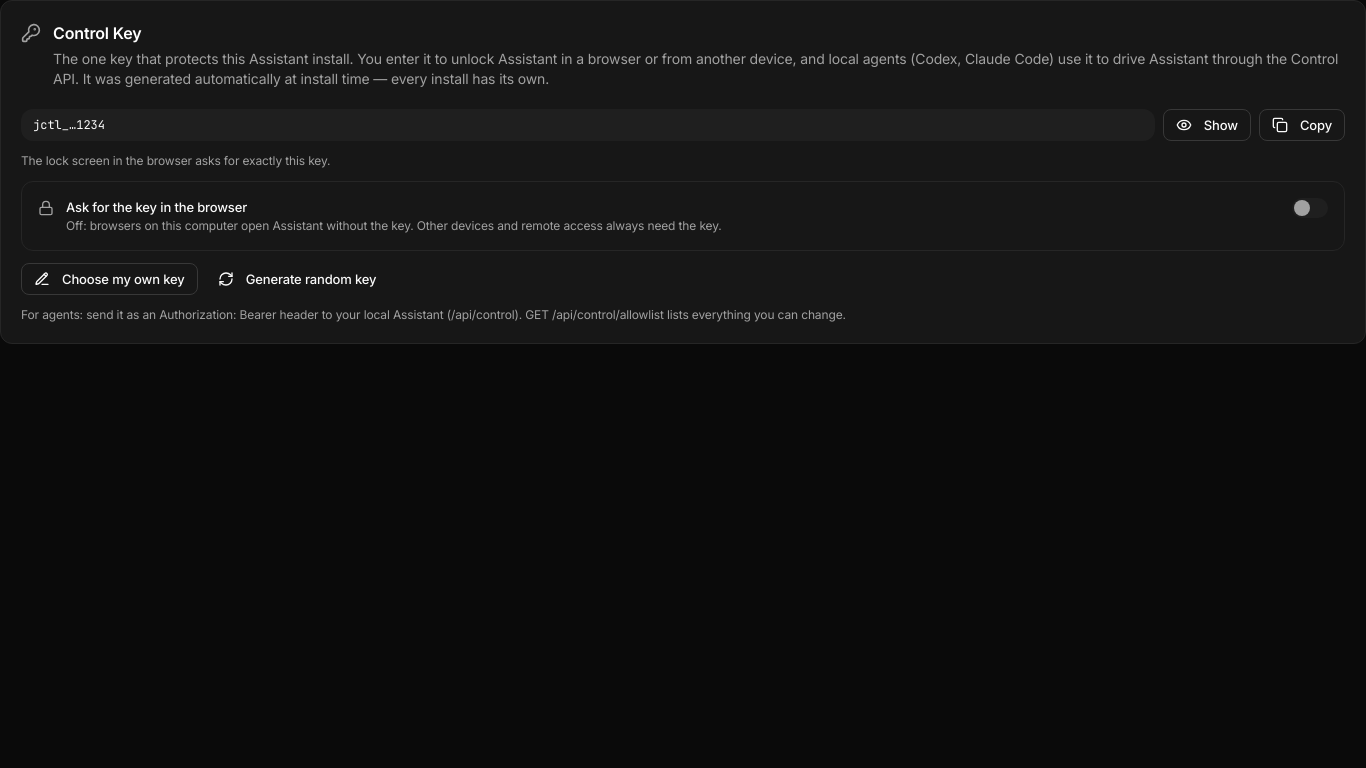
Test case: DodaiosApiGroup › rejects a too-short custom key locally without any request
Expected: the text "jctl_…1234" is shown, [21, 109, 1155, 141]
Click the button "Choose my own key": (109, 279) [21, 263, 198, 295]
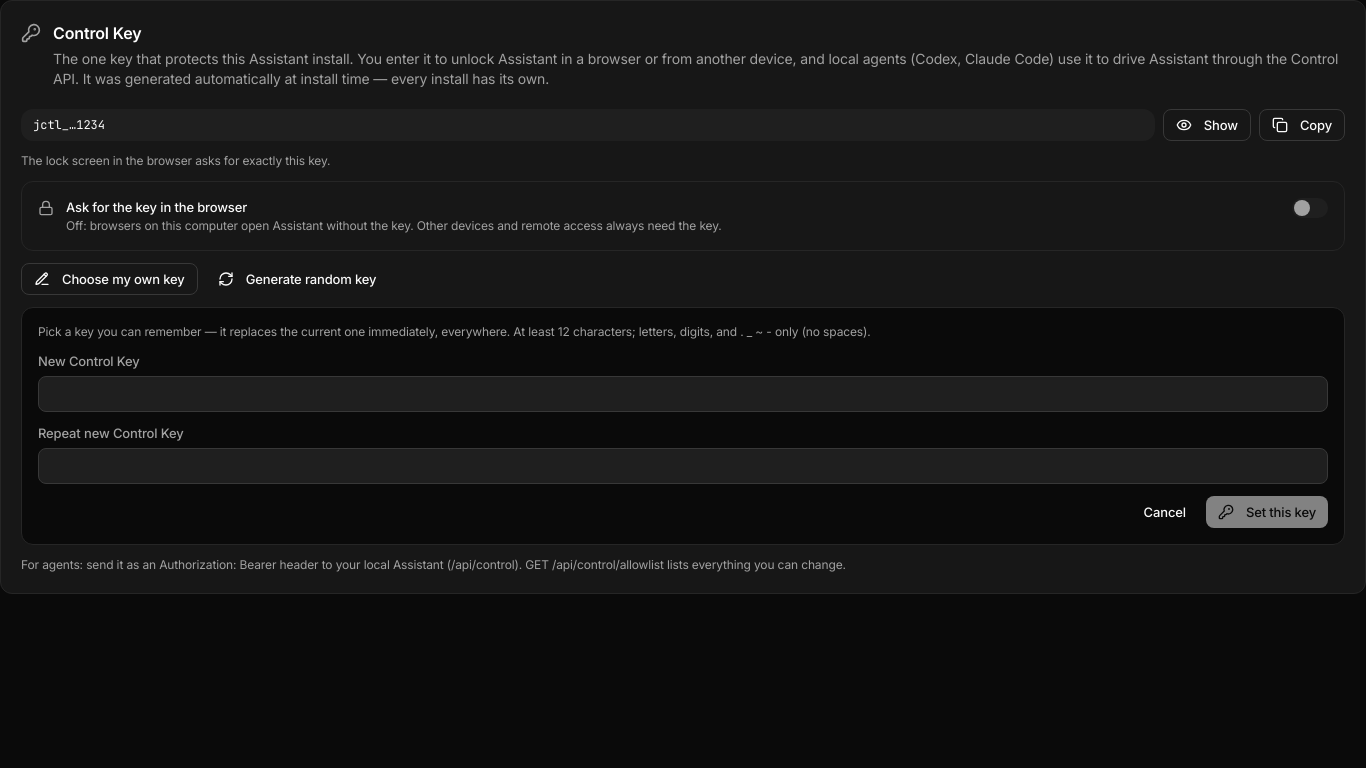
In the password field labelled "New Control Key": (683, 394) [38, 376, 1328, 412], type "short"
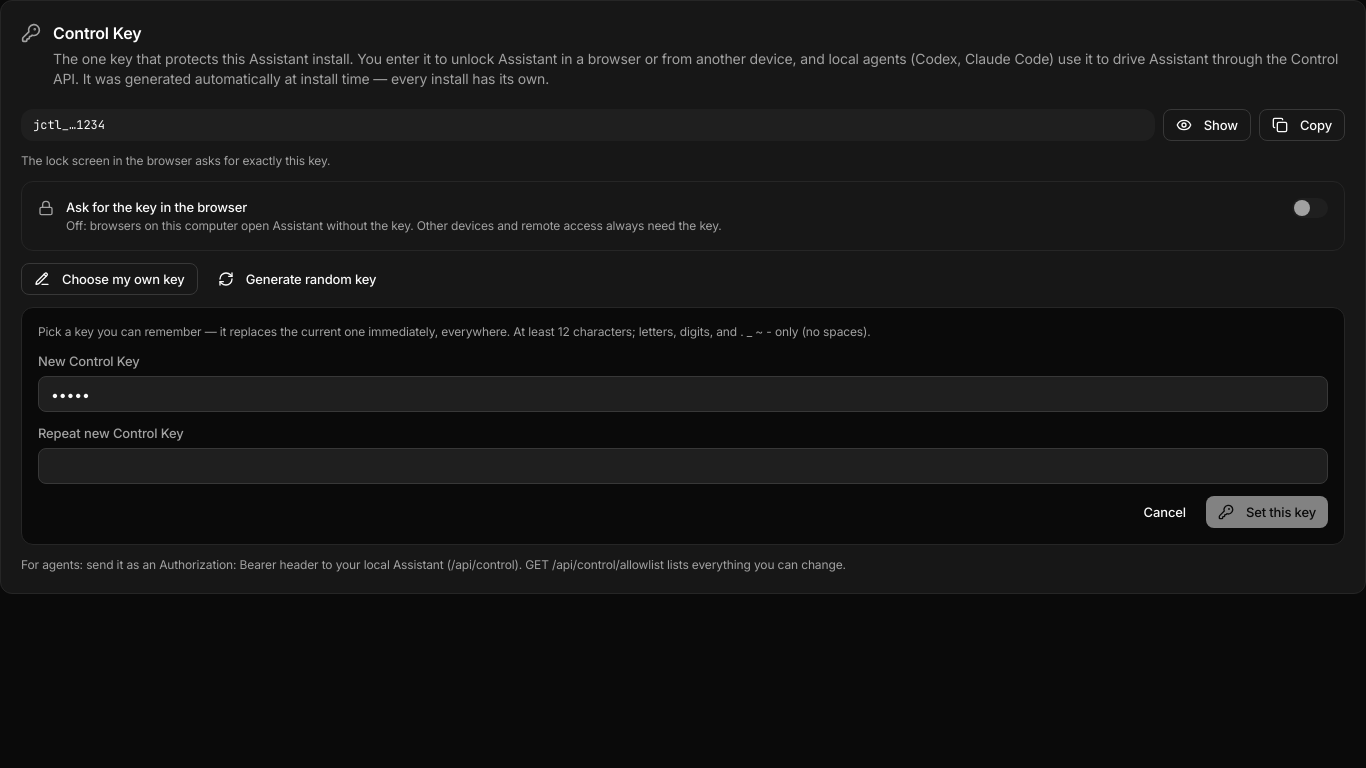
In the password field labelled "Repeat new Control Key": (683, 466) [38, 448, 1328, 484], type "short"
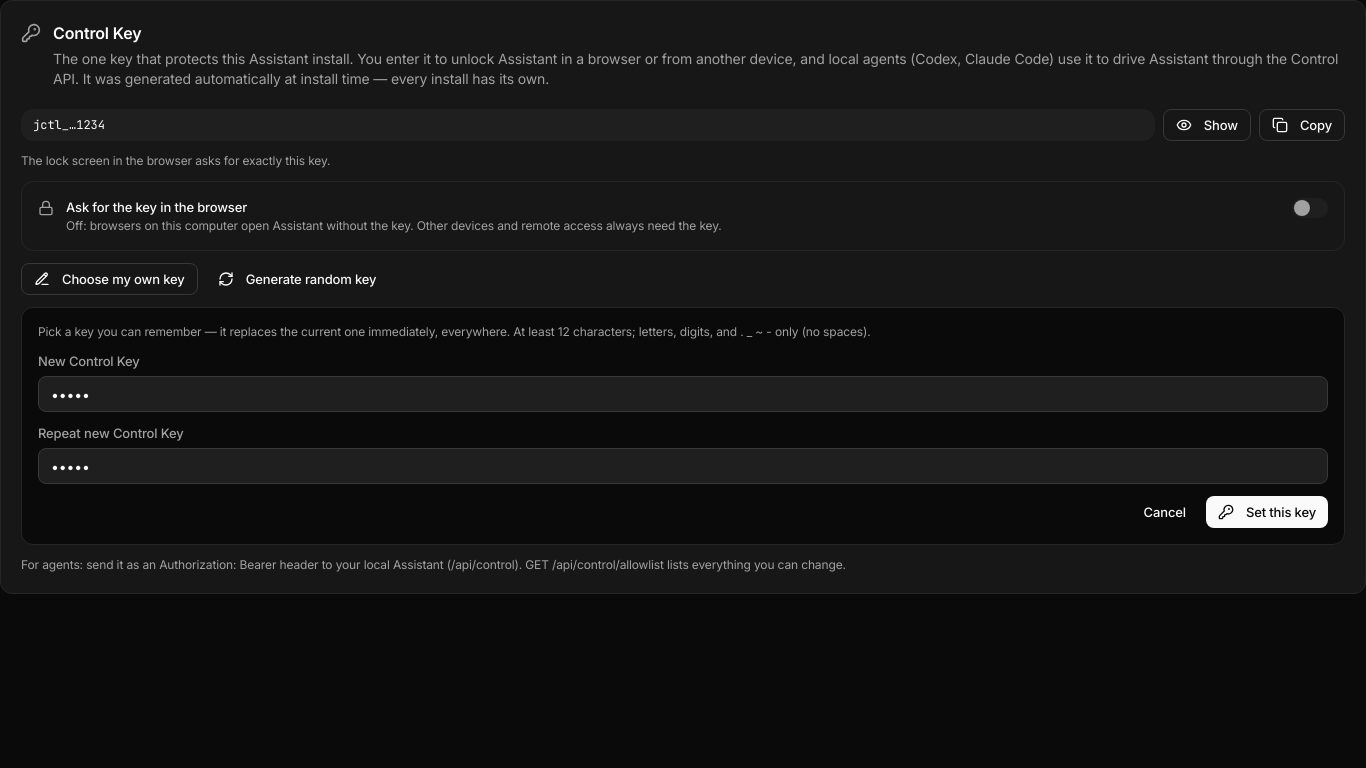
Click the button "Set this key": (1267, 512) [1206, 496, 1328, 528]
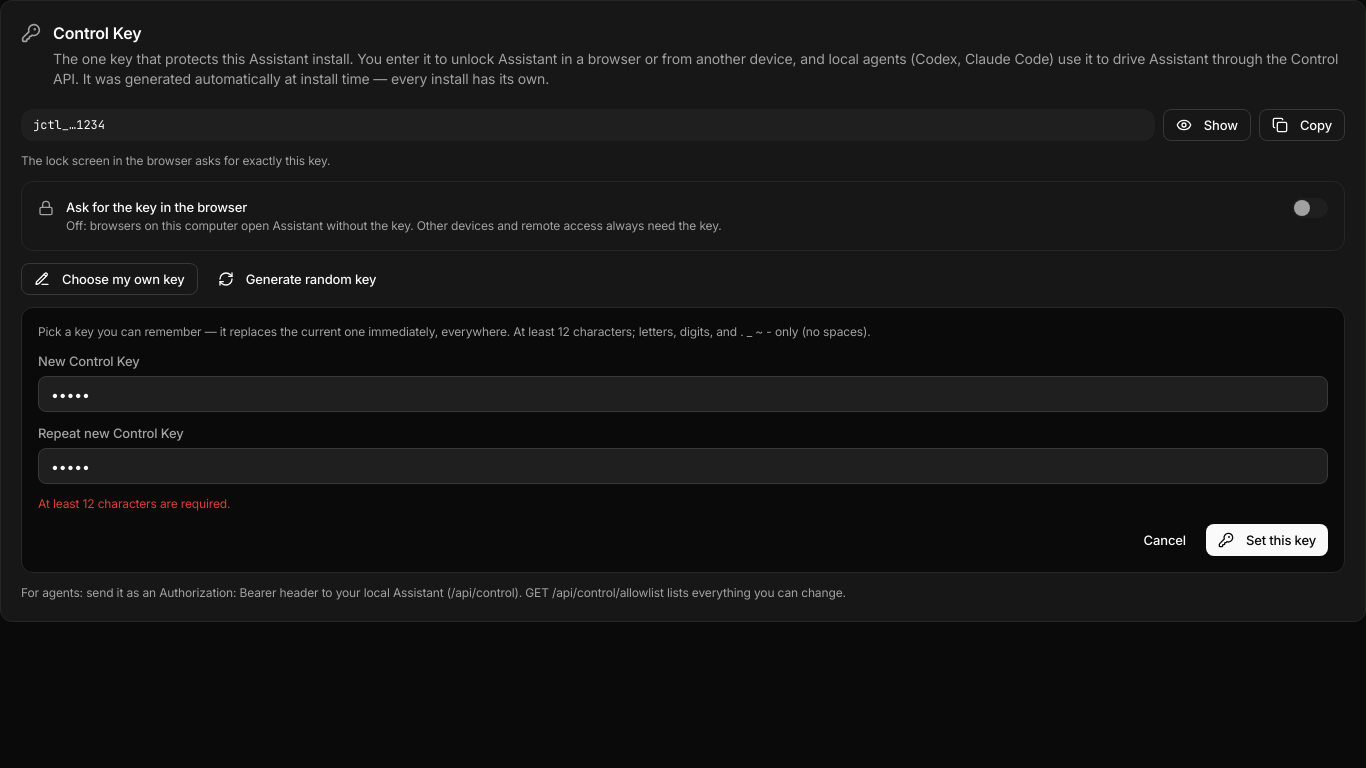
Expected: the text "At least 12 characters are required." is shown, [38, 496, 230, 511]
